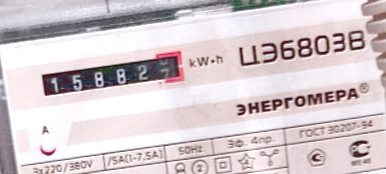1: (49, 75, 61, 94)
2: (136, 62, 149, 80)
5: (70, 72, 83, 91)
7: (158, 66, 171, 80)
8: (92, 69, 105, 87), (115, 67, 127, 84)
screen: (33, 47, 192, 102)
